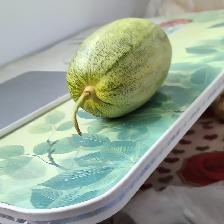gua: (85, 25, 150, 108)
